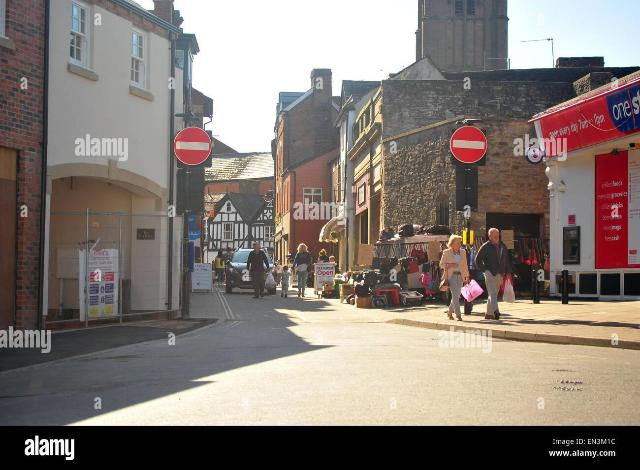B2: (172, 126, 212, 166), (449, 125, 487, 164)
